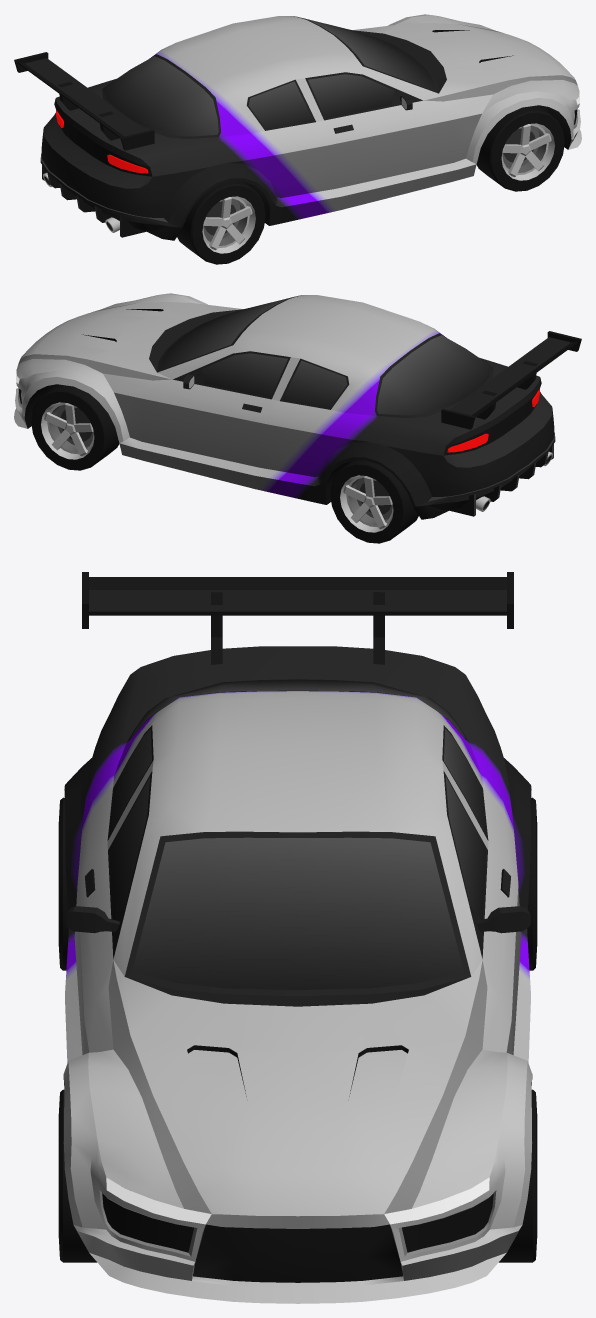
The model's file is RaceCar_084.glb.
3 views of the same model, one above another, from view 1: azimuth 30°, elevation 25°; view 2: azimuth 150°, elevation 25°; view 3: azimuth 270°, elevation 25° (orthographic). The views are drawn at different scales.
Parts seen in each view (by area): view 1: RaceCar_084, wheel_1_RaceCar_084_Wheel_1R, wheel_3_RaceCar_084_Wheel_2R; view 2: RaceCar_084, wheel_0_RaceCar_084_Wheel_1L, wheel_2_RaceCar_084_Wheel_2L; view 3: RaceCar_084, wheel_0_RaceCar_084_Wheel_1L, wheel_1_RaceCar_084_Wheel_1R, wheel_2_RaceCar_084_Wheel_2L, wheel_3_RaceCar_084_Wheel_2R.
Boxes of the visible parts, x1,y1,x2,y2 form: RaceCar_084: [14, 14, 581, 240]; wheel_1_RaceCar_084_Wheel_1R: [476, 105, 564, 191]; wheel_3_RaceCar_084_Wheel_2R: [177, 181, 265, 264]; RaceCar_084: [14, 293, 581, 519]; wheel_0_RaceCar_084_Wheel_1L: [31, 384, 119, 470]; wheel_2_RaceCar_084_Wheel_2L: [330, 460, 418, 543]; RaceCar_084: [63, 572, 532, 1303]; wheel_0_RaceCar_084_Wheel_1L: [499, 1089, 537, 1262]; wheel_1_RaceCar_084_Wheel_1R: [58, 1089, 96, 1262]; wheel_2_RaceCar_084_Wheel_2L: [527, 797, 537, 970]; wheel_3_RaceCar_084_Wheel_2R: [58, 797, 68, 970].
Bounding box in the file's own units: 4.6 × 1.37 × 1.93.
Materials: 2 (2 with a texture image).
